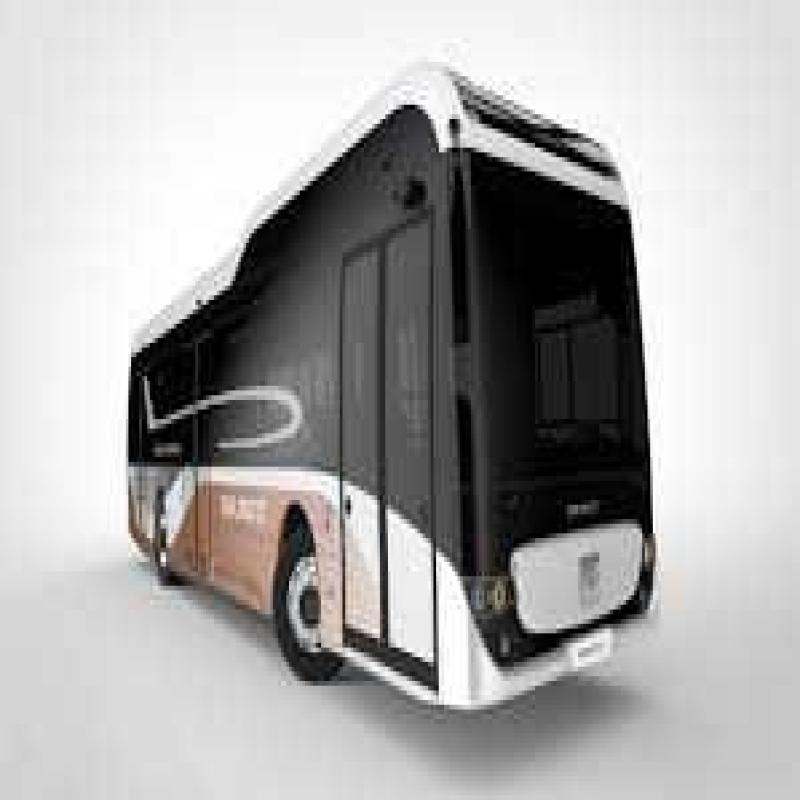bus: (113, 46, 645, 779)
